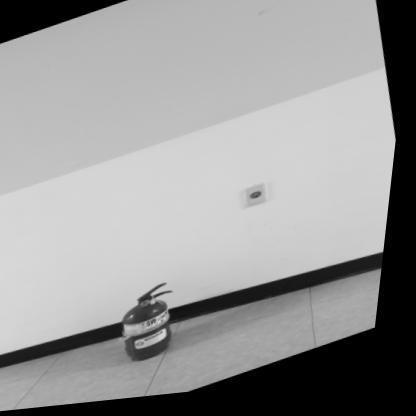FE: (117, 284, 195, 371)
